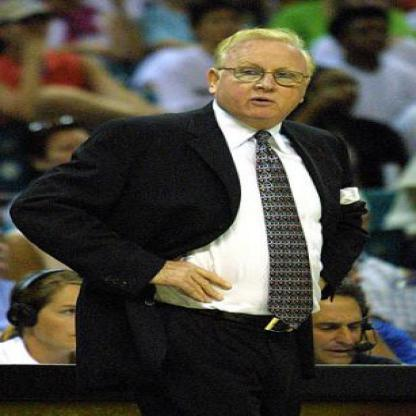face: (219, 33, 313, 122), (295, 290, 372, 369), (31, 274, 107, 354), (42, 128, 97, 176), (346, 12, 389, 55), (7, 4, 49, 45), (202, 4, 240, 44)
